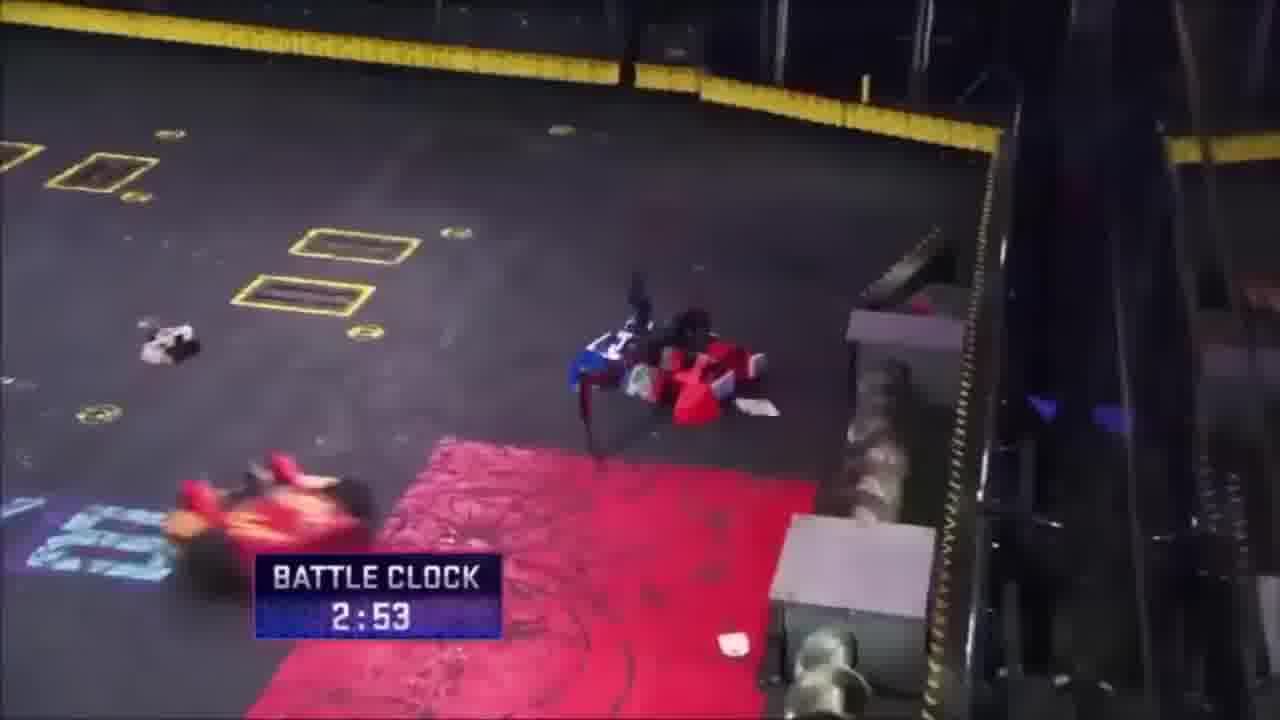combatbot: (569, 272, 771, 441), (172, 451, 376, 583)
minibot: (138, 319, 201, 366)
